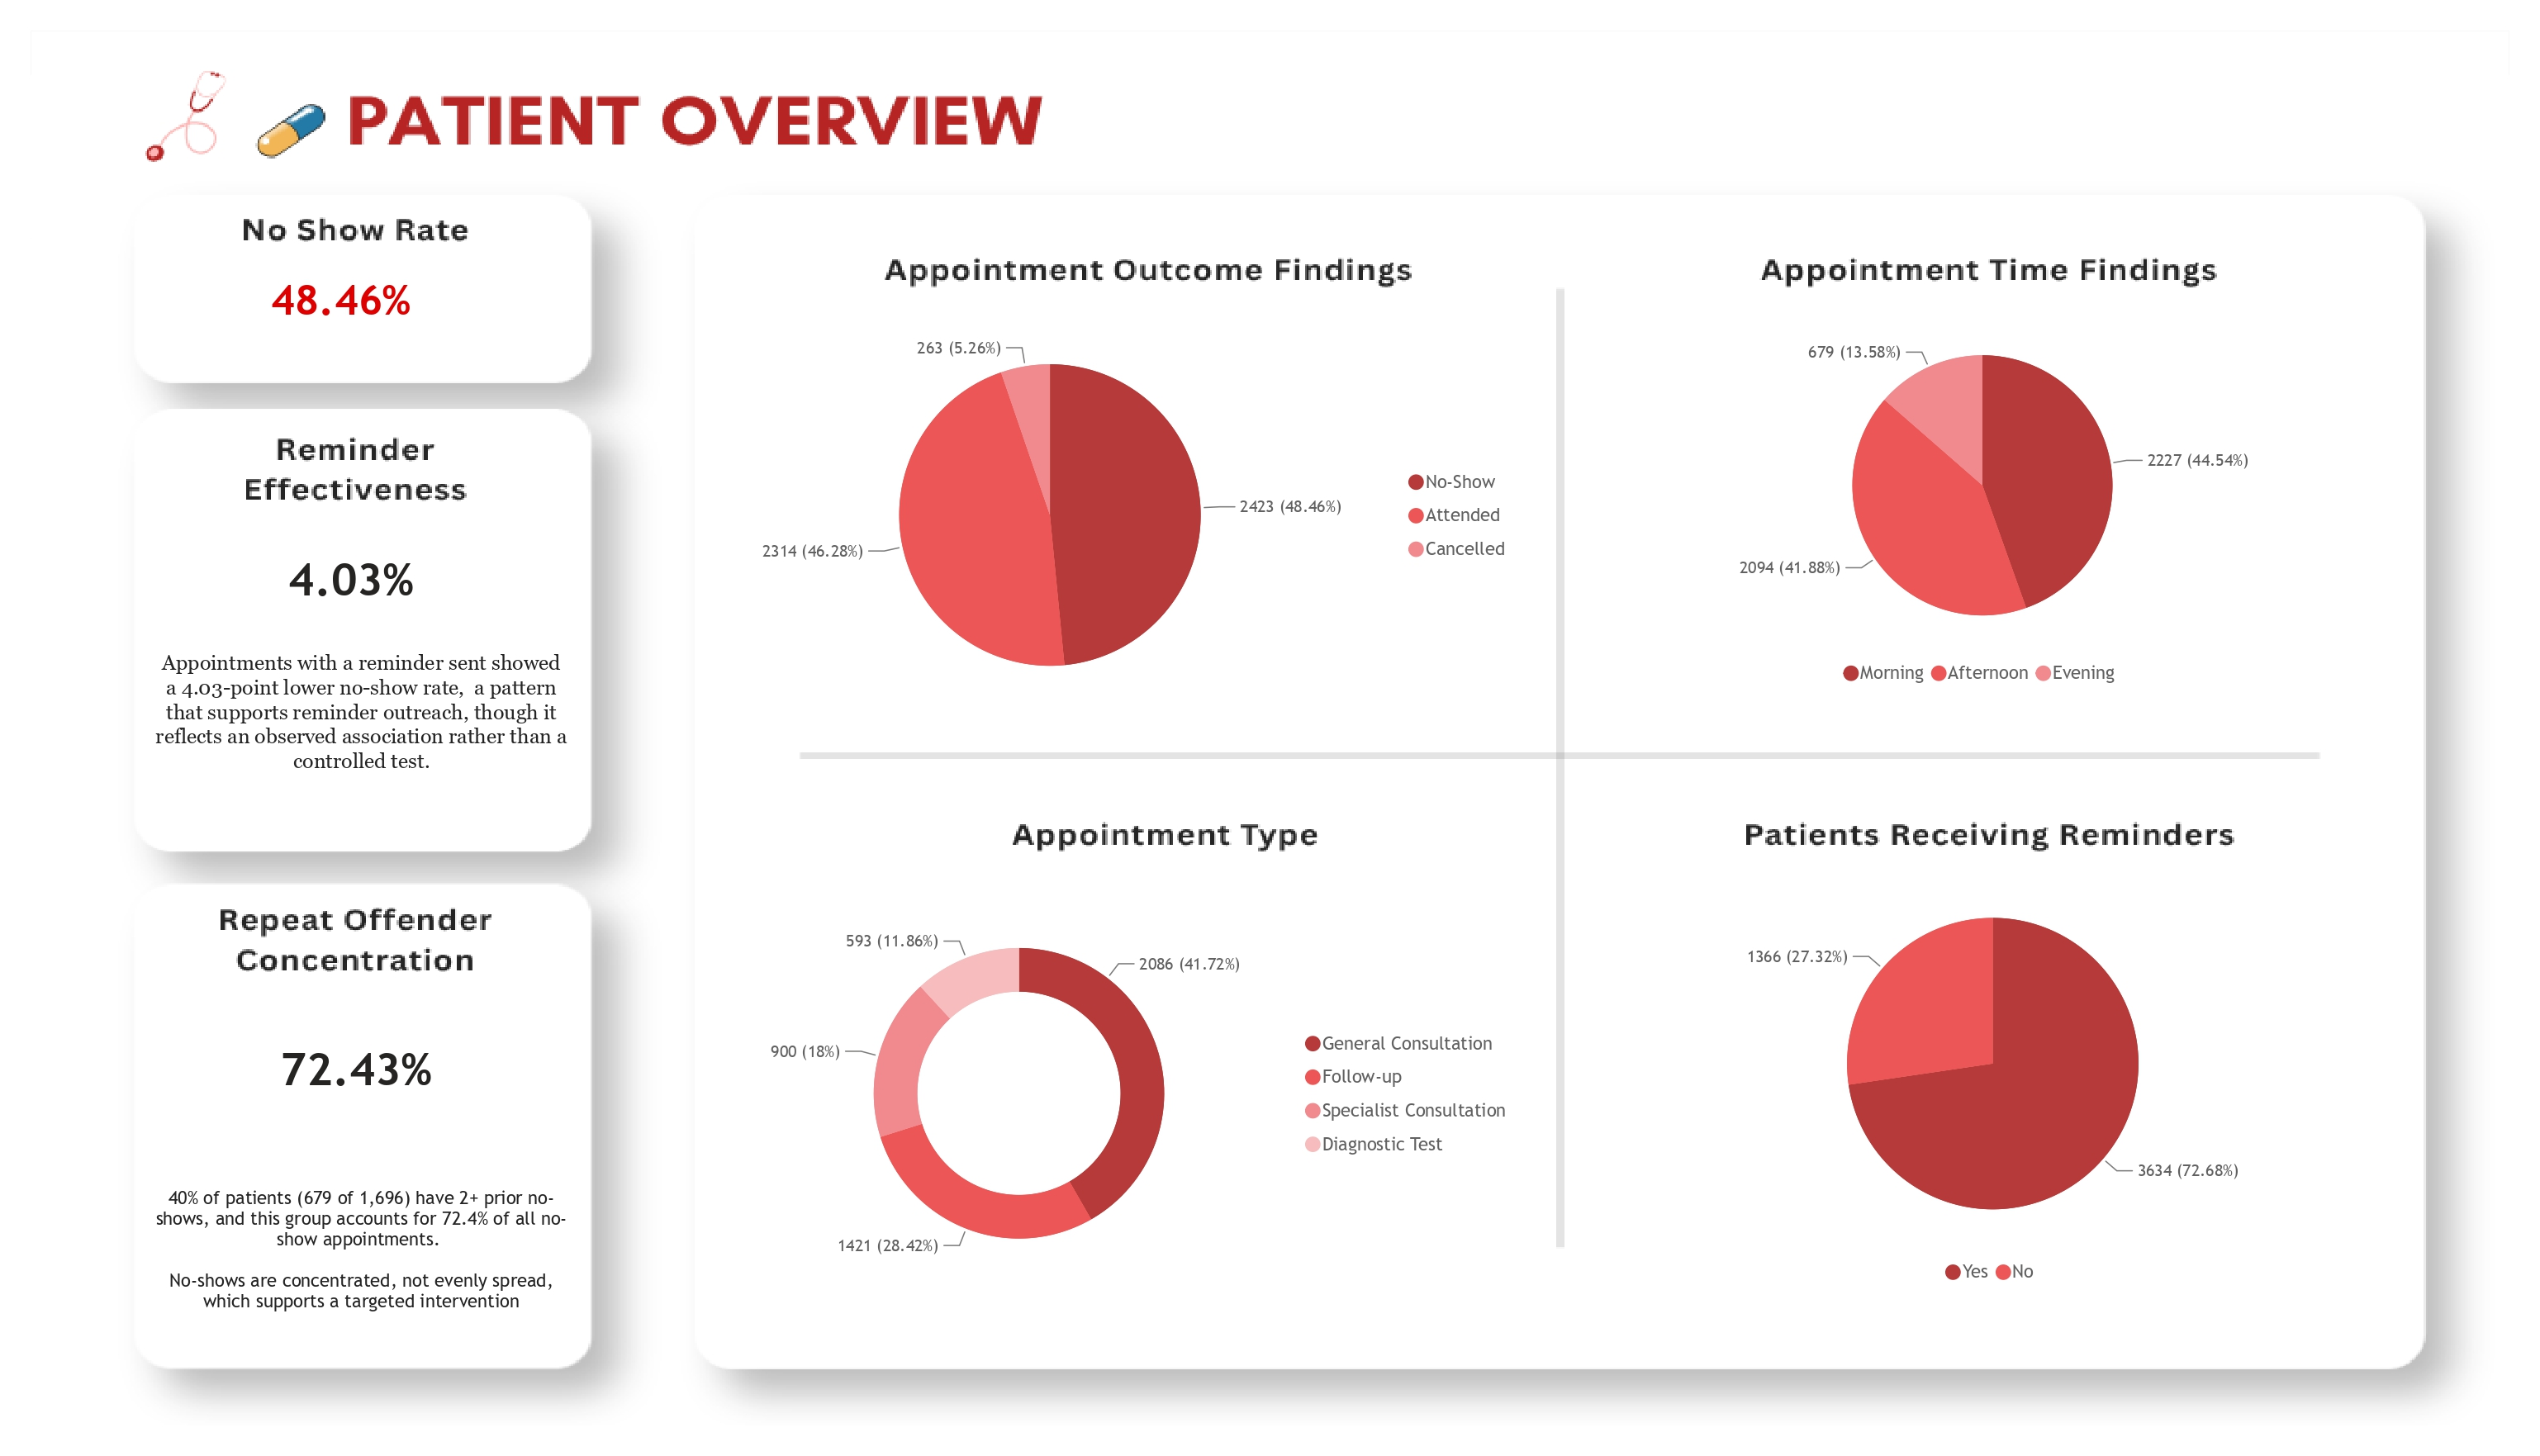

The page's visual inventory and layout, read from the dashboard file:
{"tool":"powerbi","page":{"name":"patient overview","canvas":[1920,1080],"ordinal":0},"visuals":[{"type":"cardVisual","fields":{"Data":["HealthConnect_Appointment_Data.No-Show Rate"]},"box":[152,176,176,64],"z":0},{"type":"cardVisual","fields":{"Data":["HealthConnect_Appointment_Data.Reminder Lift"]},"box":[176,400,144,48],"z":1000},{"type":"cardVisual","fields":{"Data":["HealthConnect_Appointment_Data.Repeat Offender Concentration %"]},"box":[168,768,168,72],"z":2000},{"type":"pieChart","fields":{"Category":["HealthConnect_Appointment_Data.appointment_outcome"],"Y":["CountNonNull(HealthConnect_Appointment_Data.patient_id)"]},"box":[496,208,672,336],"z":3000},{"type":"pieChart","fields":{"Category":["HealthConnect_Appointment_Data.appointment_time"],"Y":["CountNonNull(HealthConnect_Appointment_Data.patient_id)"]},"box":[1216,208,592,320],"z":4000},{"type":"donutChart","fields":{"Category":["HealthConnect_Appointment_Data.appointment_type"],"Y":["CountNonNull(HealthConnect_Appointment_Data.patient_id)"]},"box":[528,656,640,336],"z":5000},{"type":"pieChart","fields":{"Category":["HealthConnect_Appointment_Data.reminder_sent"],"Y":["CountNonNull(HealthConnect_Appointment_Data.patient_id)"]},"box":[1200,640,640,352],"z":6000},{"type":"textbox","box":[96,480,320,128],"z":7000},{"type":"textbox","box":[96,896,320,96],"z":8000}]}

Visuals, with their boxes on the page's 1920x1080 design canvas (x1, y1, x2, y2). These are canvas units, not pixel positions in the 2540x1456 screenshot, which may show the page scaled, cropped or inside an application window:
cardVisual - HealthConnect_Appointment_Data.No-Show Rate: <bbox>152, 176, 328, 240</bbox>
cardVisual - HealthConnect_Appointment_Data.Reminder Lift: <bbox>176, 400, 320, 448</bbox>
cardVisual - HealthConnect_Appointment_Data.Repeat Offender Concentration %: <bbox>168, 768, 336, 840</bbox>
pieChart - HealthConnect_Appointment_Data.appointment_outcome x CountNonNull(HealthConnect_Appointment_Data.patient_id): <bbox>496, 208, 1168, 544</bbox>
pieChart - HealthConnect_Appointment_Data.appointment_time x CountNonNull(HealthConnect_Appointment_Data.patient_id): <bbox>1216, 208, 1808, 528</bbox>
donutChart - HealthConnect_Appointment_Data.appointment_type x CountNonNull(HealthConnect_Appointment_Data.patient_id): <bbox>528, 656, 1168, 992</bbox>
pieChart - HealthConnect_Appointment_Data.reminder_sent x CountNonNull(HealthConnect_Appointment_Data.patient_id): <bbox>1200, 640, 1840, 992</bbox>
textbox: <bbox>96, 480, 416, 608</bbox>
textbox: <bbox>96, 896, 416, 992</bbox>
